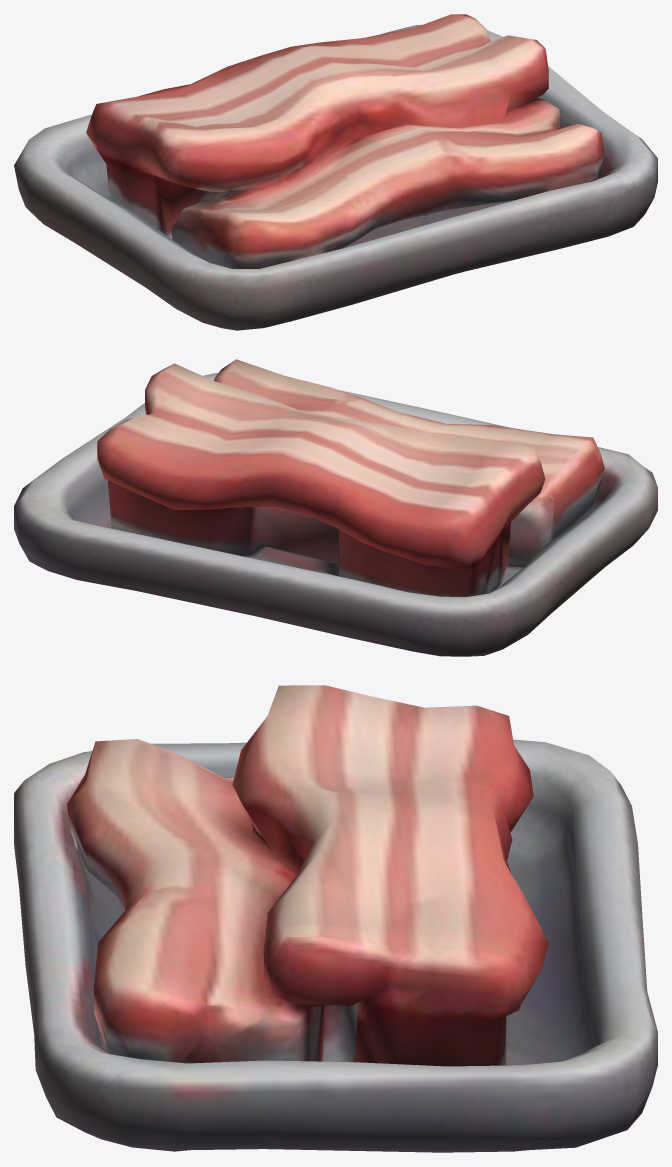
Rendered from bacon.glb.
The picture shows the model from 3 angles, top to bottom: view 1: azimuth 30°, elevation 25°; view 2: azimuth 150°, elevation 25°; view 3: azimuth 270°, elevation 25°; orthographic projection. The views are drawn at different scales.
Parts seen in each view (by area): view 1: Bacon; view 2: Bacon; view 3: Bacon.
Boxes of the visible parts, <box> form: Bacon: <box>14,14,657,330</box>; Bacon: <box>14,359,657,656</box>; Bacon: <box>14,685,657,1152</box>.
Size of the model in its own units: 2.06 by 0.5419 by 1.58.
Materials: 1 (1 with a texture image).
